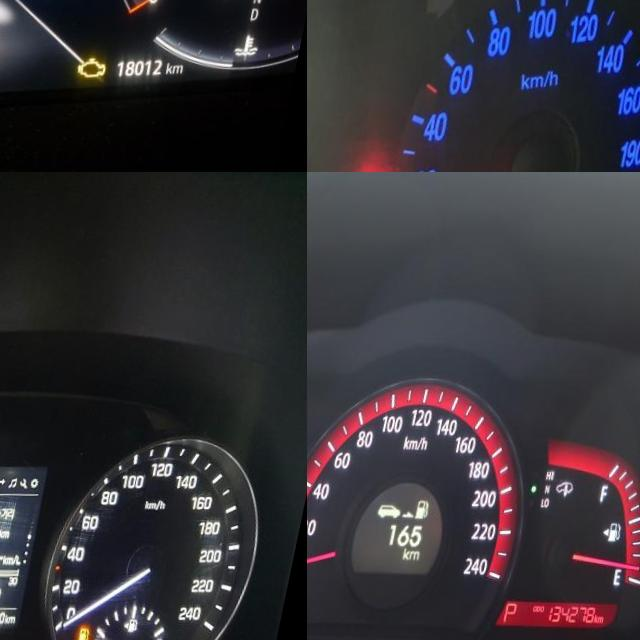Low fuel level: (95, 622, 110, 640)
